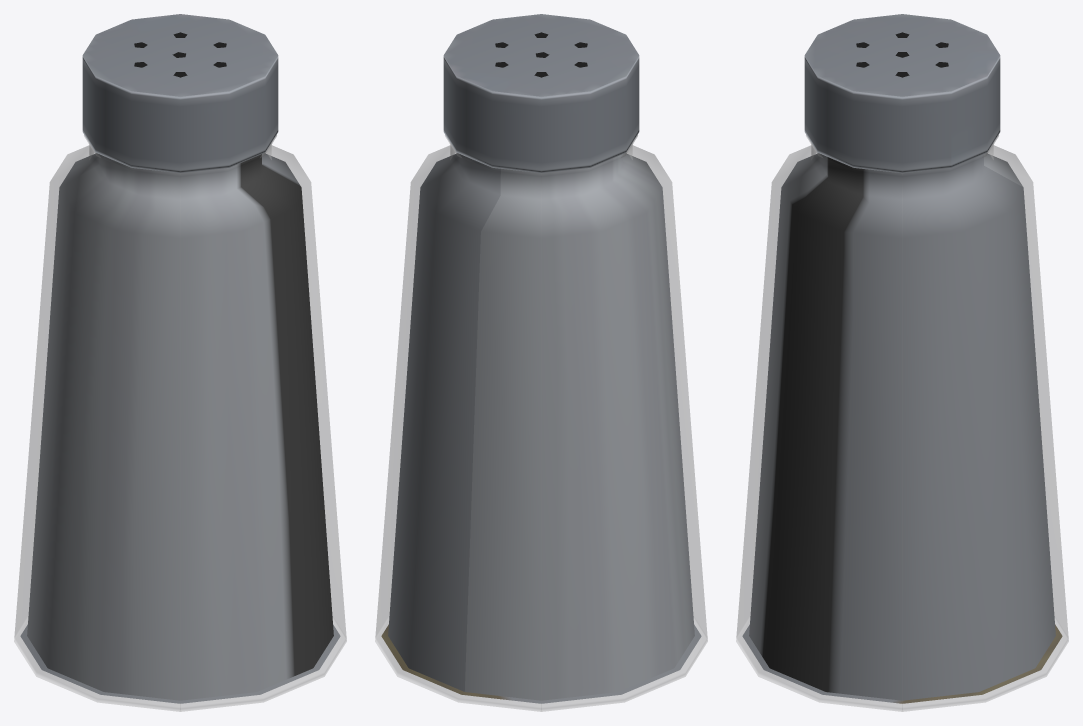
The model's file is pi_bottle02_pepper.gltf.
3 renders of one model, left to right at view 1: azimuth 30°, elevation 25°; view 2: azimuth 150°, elevation 25°; view 3: azimuth 270°, elevation 25°, orthographic.
Visible parts, largest first — view 1: pi_bottle02_pepper_02_shape:pi_bottle02_pepper_body01_tra, pi_bottle02_pepper_05_shape:pi_bottle02_pepper_body01_tra, pi_bottle02_pepper_01_shape:pi_bottle02_pepper_body01; view 2: pi_bottle02_pepper_02_shape:pi_bottle02_pepper_body01_tra, pi_bottle02_pepper_05_shape:pi_bottle02_pepper_body01_tra, pi_bottle02_pepper_01_shape:pi_bottle02_pepper_body01; view 3: pi_bottle02_pepper_02_shape:pi_bottle02_pepper_body01_tra, pi_bottle02_pepper_05_shape:pi_bottle02_pepper_body01_tra, pi_bottle02_pepper_01_shape:pi_bottle02_pepper_body01.
Boxes of the visible parts, x1=… form: pi_bottle02_pepper_02_shape:pi_bottle02_pepper_body01_tra: x1=14, y1=135, x2=346, y2=711; pi_bottle02_pepper_05_shape:pi_bottle02_pepper_body01_tra: x1=20, y1=153, x2=340, y2=703; pi_bottle02_pepper_01_shape:pi_bottle02_pepper_body01: x1=82, y1=14, x2=278, y2=173; pi_bottle02_pepper_02_shape:pi_bottle02_pepper_body01_tra: x1=375, y1=135, x2=707, y2=711; pi_bottle02_pepper_05_shape:pi_bottle02_pepper_body01_tra: x1=381, y1=153, x2=701, y2=703; pi_bottle02_pepper_01_shape:pi_bottle02_pepper_body01: x1=443, y1=14, x2=639, y2=173; pi_bottle02_pepper_02_shape:pi_bottle02_pepper_body01_tra: x1=736, y1=135, x2=1068, y2=711; pi_bottle02_pepper_05_shape:pi_bottle02_pepper_body01_tra: x1=742, y1=153, x2=1062, y2=703; pi_bottle02_pepper_01_shape:pi_bottle02_pepper_body01: x1=804, y1=14, x2=1000, y2=173.
Size of the model in its own units: 0.0501 by 0.0974 by 0.0501.
2 materials, 2 textured.
